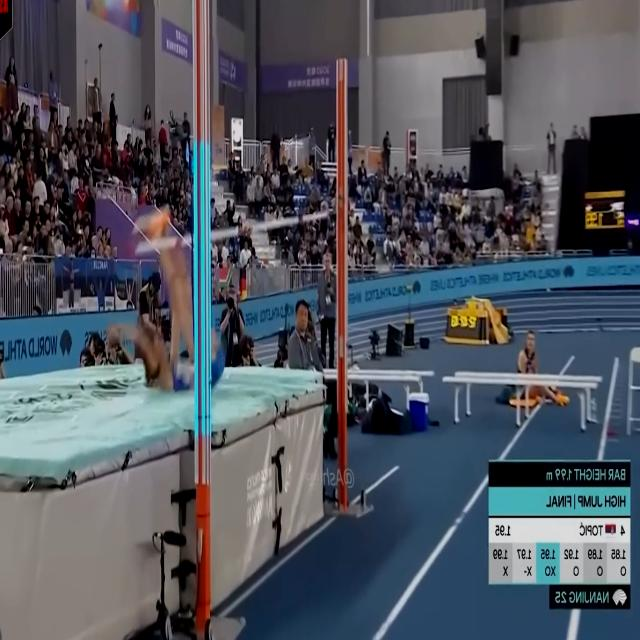land: (109, 207, 225, 392)
